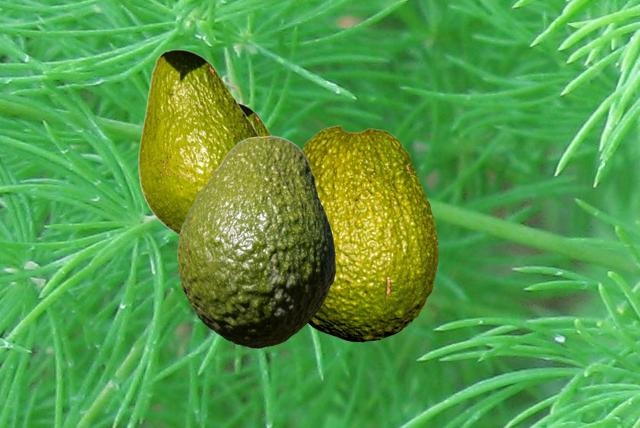avocado: (177, 135, 334, 347), (301, 125, 437, 341), (138, 49, 260, 235), (238, 102, 271, 135)
